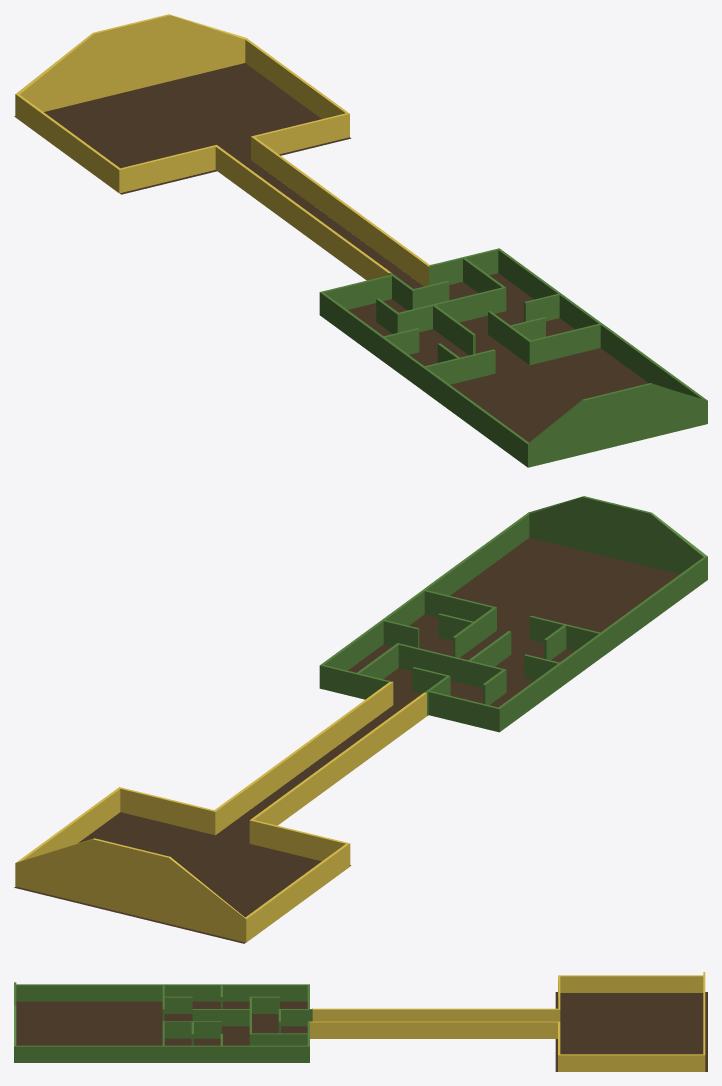
The model's file is mazeEasy.gltf.
3 views of the same model, one above another, from view 1: azimuth 30°, elevation 25°; view 2: azimuth 150°, elevation 25°; view 3: azimuth 270°, elevation 25° (orthographic). The views are drawn at different scales.
Parts seen in each view (by area): view 1: Walls, Ground.002; view 2: Walls, Ground.002; view 3: Walls, Ground.002.
Part boxes in pixels (x1,y1,x2,y2): Walls: (15, 14, 707, 467); Ground.002: (14, 63, 648, 442); Walls: (15, 496, 707, 942); Ground.002: (14, 537, 679, 943); Walls: (14, 972, 705, 1071); Ground.002: (16, 992, 707, 1071).
Size of the model in its own units: 2.61 by 0.7107 by 9.56.
